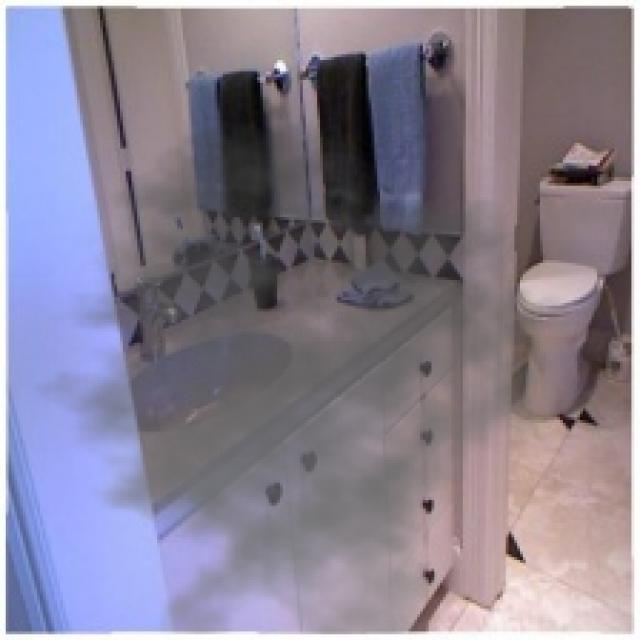Smoke: (9, 120, 568, 634)
